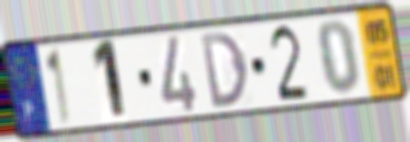0: (315, 18, 364, 99)
1: (90, 36, 130, 124), (44, 43, 73, 129)
2: (268, 22, 311, 105)
4: (158, 31, 200, 117)
D: (197, 28, 251, 111)
